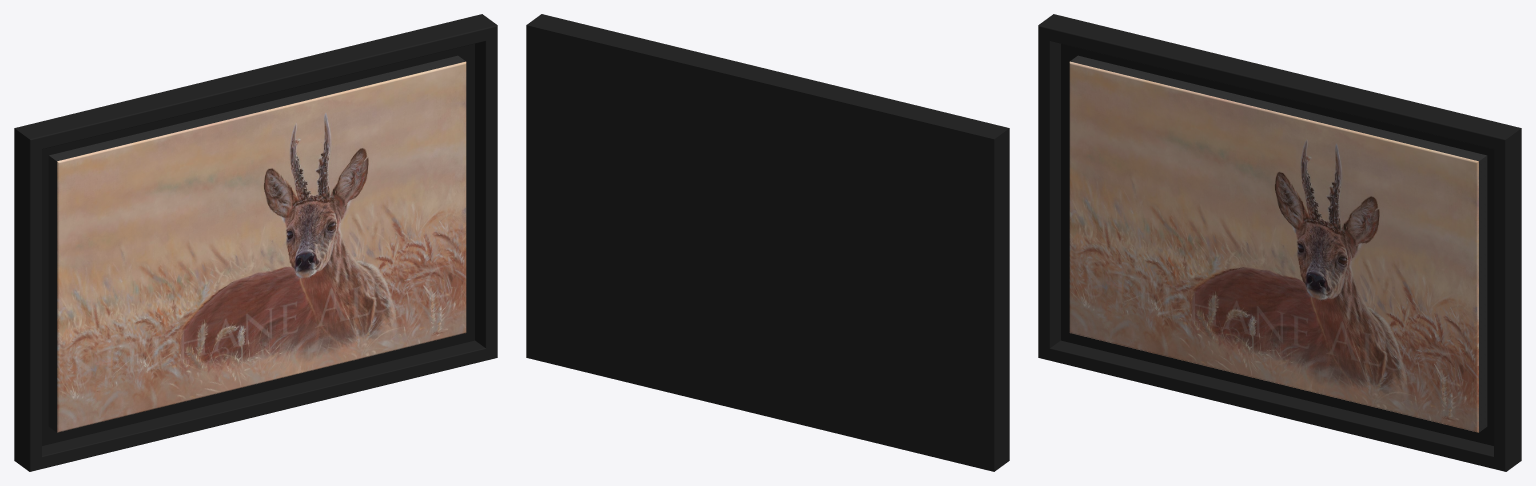
File: peinture-brocard-ete-classique-0f3e9b11.glb
3 renders of one model, left to right at view 1: azimuth 30°, elevation 25°; view 2: azimuth 150°, elevation 25°; view 3: azimuth 330°, elevation 25°, orthographic.
Parts seen in each view (by area): view 1: Painting; view 2: Painting; view 3: Painting.
Part boxes in pixels (bbox=[...]): Painting: bbox=[14, 14, 497, 471]; Painting: bbox=[526, 14, 1009, 471]; Painting: bbox=[1038, 14, 1521, 471].
Size of the model in its own units: 0.686 by 0.466 by 0.04.
Materials: 4 (2 with a texture image).
